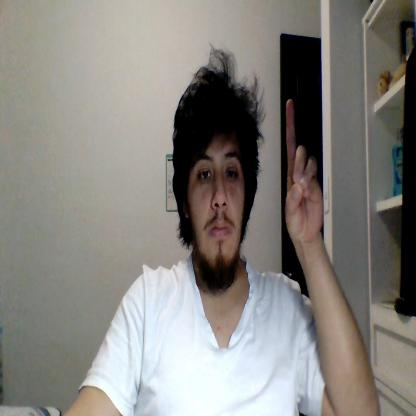D: (285, 98, 323, 238)
